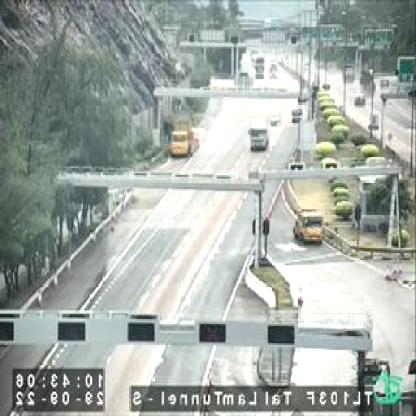Bus: (252, 43, 265, 76)
Car: (270, 111, 282, 126), (269, 59, 278, 76)
Truck: (168, 118, 204, 156), (294, 201, 325, 243), (247, 106, 272, 144)
